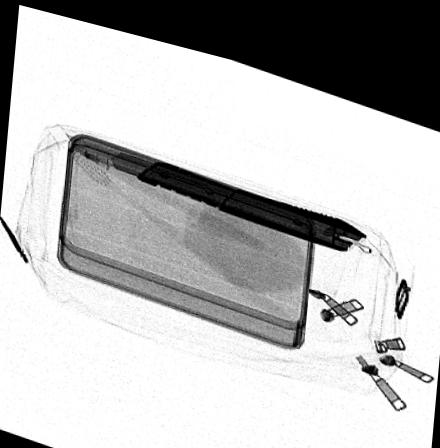Knife: (66, 129, 368, 235)
